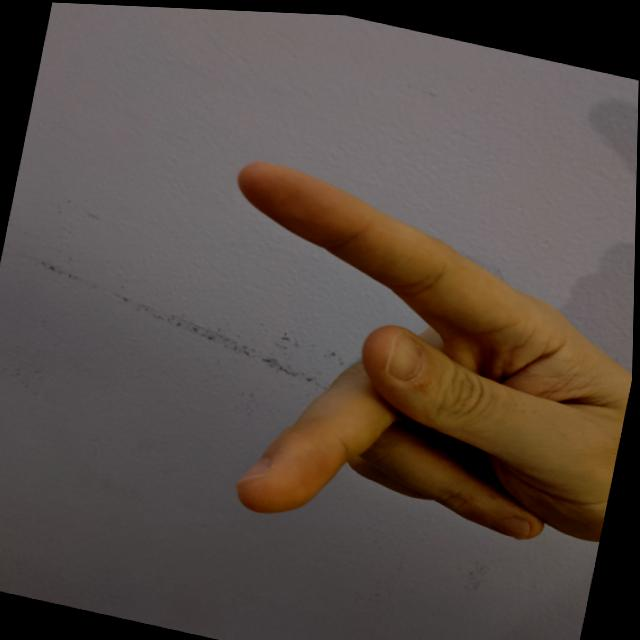P: (165, 145, 637, 588)
